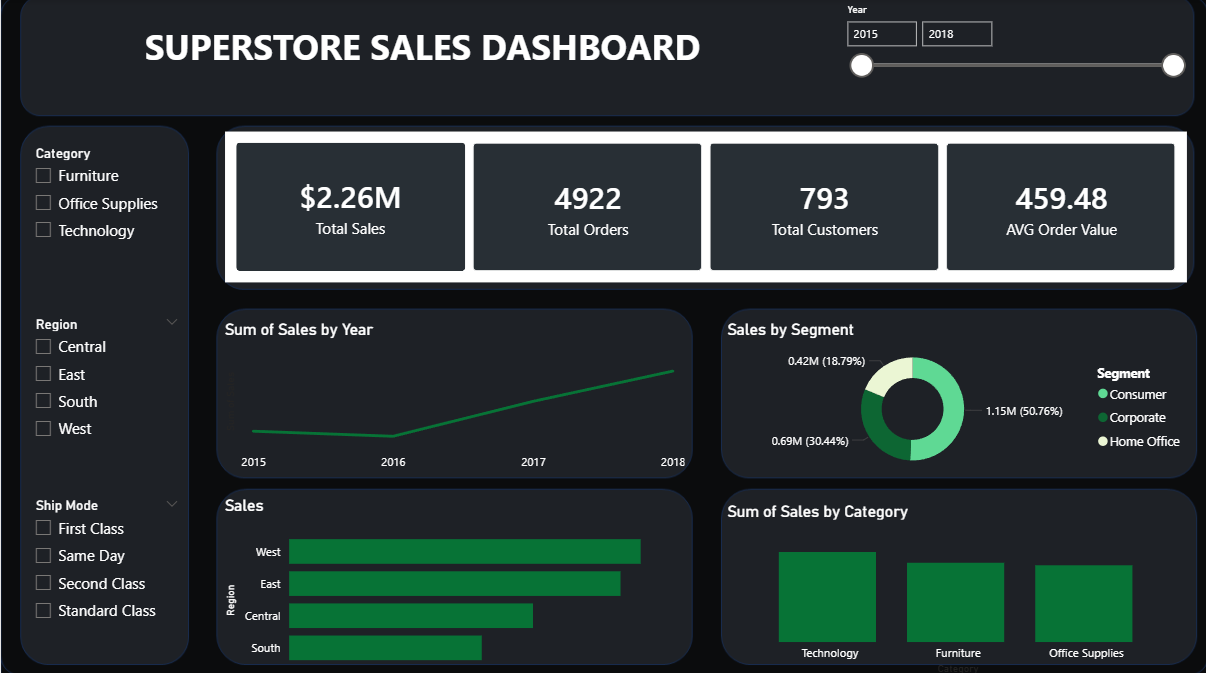

This screenshot's page, from the dashboard's own definition file:
{"tool":"powerbi","page":{"name":"Page 1","canvas":[1280,720],"ordinal":0},"visuals":[{"type":"lineChart","fields":{"Y":["Sum(train.Sales)"],"Category":["train.Order Date.Variation.Date Hierarchy.Year"]},"box":[232.2,340.4,497.9,168.6],"z":0},{"type":"clusteredBarChart","title":"Sales","fields":{"Category":["train.Region"],"Y":["Sum(train.Sales)"]},"box":[232.2,526.5,497.9,194.1],"z":1000},{"type":"donutChart","title":"Sales by Segment","fields":{"Category":["train.Segment"],"Y":["Sum(train.Sales)"]},"box":[765.1,340.4,499.5,168.6],"z":2000},{"type":"clusteredColumnChart","fields":{"Category":["train.Category"],"Y":["Sum(train.Sales)"]},"box":[765.1,532.9,499.5,187.7],"z":3000},{"type":"cardVisual","fields":{"Data":["_Measures.Total Sales","_Measures.Total Orders","_Measures.Total Customers","_Measures.AVG Order Value"]},"box":[232.2,135.2,1032.3,170.2],"z":4000},{"type":"textbox","box":[25.4,19.1,843,98.6],"z":5000},{"type":"slicer","fields":{"Values":["train.Category"]},"box":[23.9,149.5,176.6,170.2],"z":6000},{"type":"slicer","fields":{"Values":["train.Region"]},"box":[23.9,330.8,176.6,186.1],"z":7000},{"type":"slicer","fields":{"Values":["train.Order Date.Variation.Date Hierarchy.Year"]},"box":[884.4,0,380.2,117.7],"z":8000},{"type":"slicer","fields":{"Values":["train.Ship Mode"]},"box":[23.9,523.3,176.6,187.7],"z":9000}]}

Visuals, with their boxes in screenshot pixels (x1, y1, x2, y2), scaled from the page's 1280x720 canvas onto the 1206x673 screenshot:
lineChart - Sum(train.Sales) x train.Order Date.Variation.Date Hierarchy.Year: crop(219, 318, 688, 476)
"Sales" clusteredBarChart: crop(219, 492, 688, 672)
"Sales by Segment" donutChart: crop(721, 318, 1191, 476)
clusteredColumnChart - train.Category x Sum(train.Sales): crop(721, 498, 1191, 672)
cardVisual - _Measures.Total Sales x _Measures.Total Orders: crop(219, 126, 1191, 285)
textbox: crop(24, 18, 818, 110)
slicer - train.Category: crop(23, 140, 189, 299)
slicer - train.Region: crop(23, 309, 189, 483)
slicer - train.Order Date.Variation.Date Hierarchy.Year: crop(833, 0, 1191, 110)
slicer - train.Ship Mode: crop(23, 489, 189, 665)
